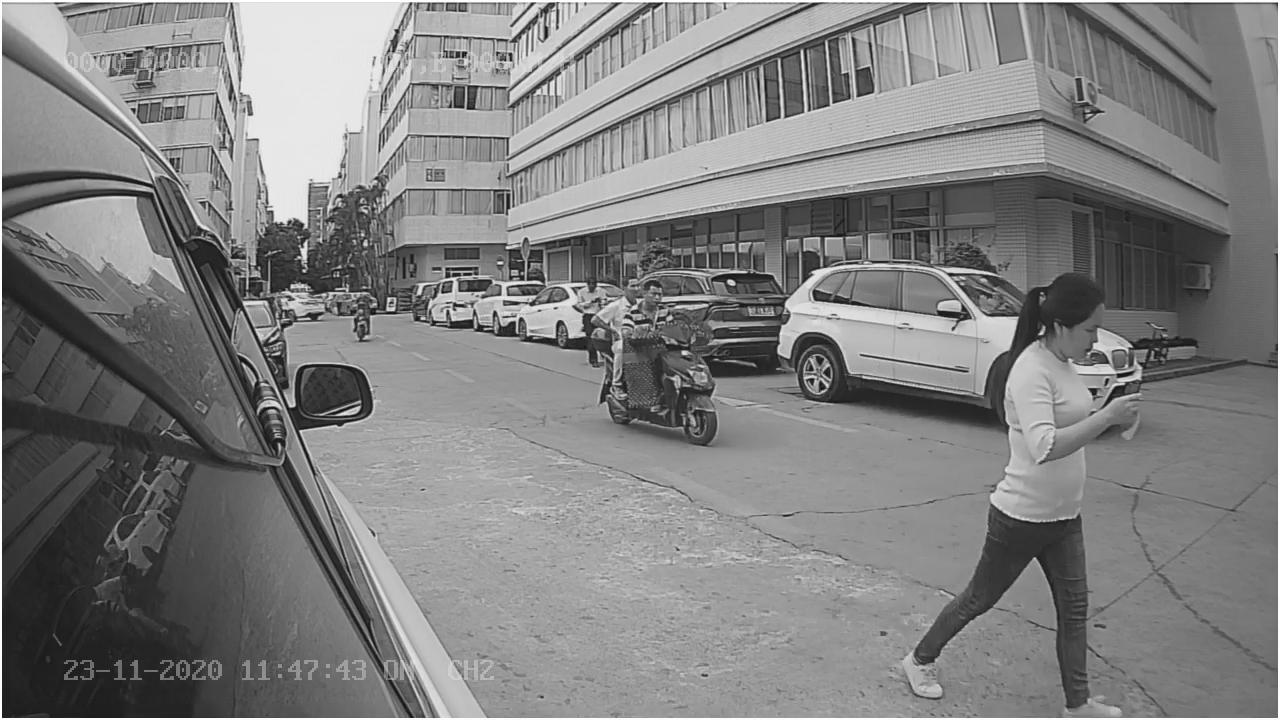person: (903, 255, 1150, 719)
